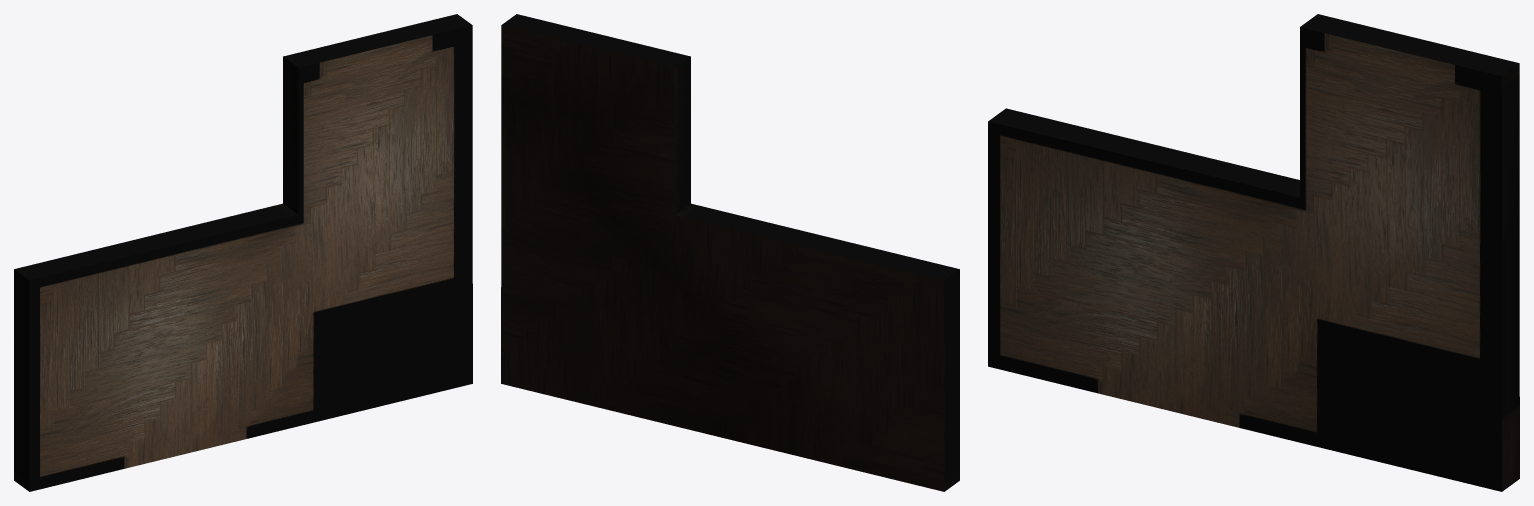
The model's file is floor_4_vm.obj.
3 renders of one model, left to right at view 1: azimuth 30°, elevation 25°; view 2: azimuth 150°, elevation 25°; view 3: azimuth 330°, elevation 25°, orthographic. The views are drawn at different scales.
Size of the model in its own units: 3.31 by 2.56 by 0.2.
1 material, 1 textured.
